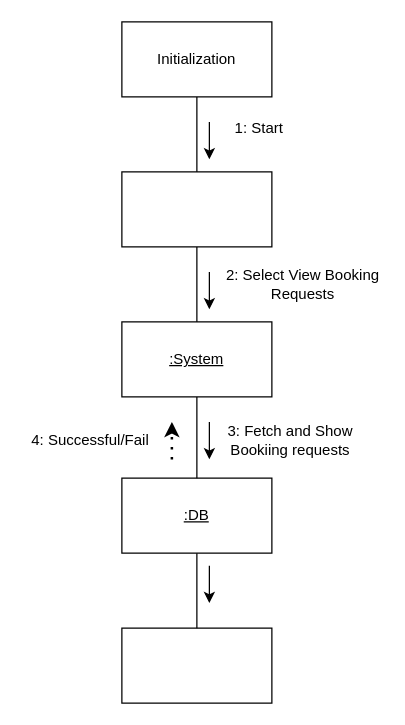
The diagram is 405 pixels wide and 725 high, and some of its shapes have lost their labels. Here are the shapes that lost their labels. From the top down, the box of each, then its label:
(121, 171, 272, 247): :Admin
(121, 627, 272, 703): End
